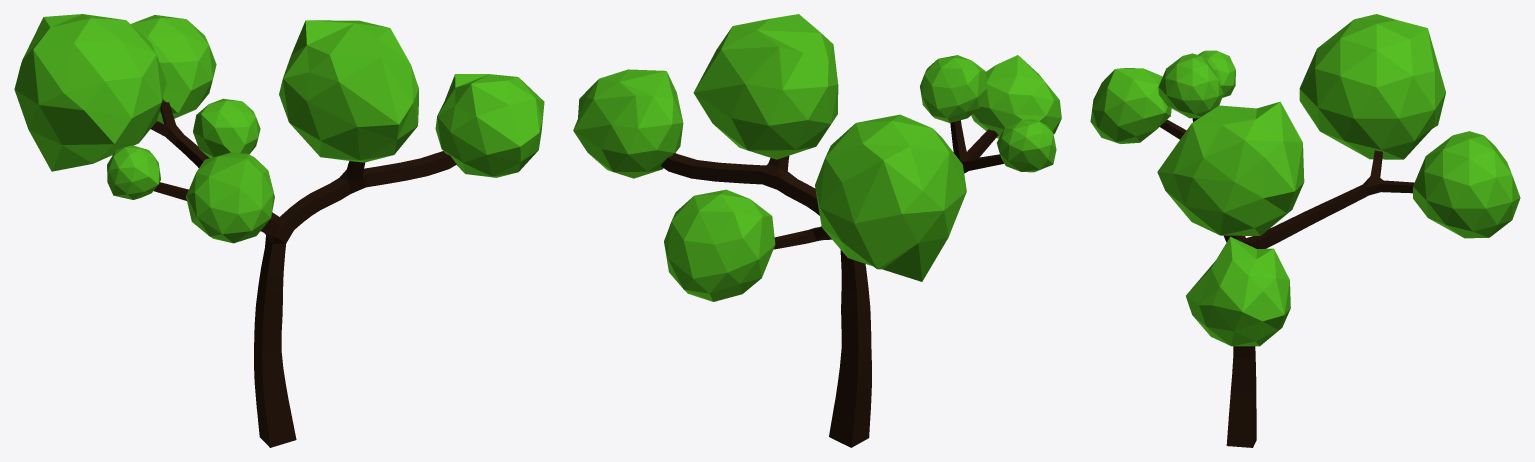
The model's file is sljiva.obj.
3 views of the same model, side by side, from view 1: azimuth 30°, elevation 25°; view 2: azimuth 150°, elevation 25°; view 3: azimuth 270°, elevation 25° (orthographic). The views are drawn at different scales.
Visible parts, largest first — view 1: Icosphere.001_Material.003_0, Icosphere.005_Material.007_0, Plane_Material.002_0, Icosphere.006_Material.008_0, Icosphere.004_Material.006_0, Icosphere_Material.001_0, Icosphere.002_Material.004_0, Icosphere.003_Material.005_0; view 2: Icosphere.001_Material.003_0, Icosphere.005_Material.007_0, Plane_Material.002_0, Icosphere_Material.001_0, Icosphere.006_Material.008_0, Icosphere.004_Material.006_0, Icosphere.002_Material.004_0, Icosphere.003_Material.005_0; view 3: Icosphere.001_Material.003_0, Icosphere.005_Material.007_0, Icosphere_Material.001_0, Icosphere.006_Material.008_0, Plane_Material.002_0, Icosphere.004_Material.006_0, Icosphere.002_Material.004_0, Icosphere.003_Material.005_0.
Part boxes in pixels (x1,y1,x2,y2): Icosphere.001_Material.003_0: (14,14,166,171); Icosphere.005_Material.007_0: (279,20,418,162); Plane_Material.002_0: (151,101,456,447); Icosphere.006_Material.008_0: (435,74,544,177); Icosphere.004_Material.006_0: (186,152,274,243); Icosphere_Material.001_0: (131,15,216,123); Icosphere.002_Material.004_0: (193,98,260,157); Icosphere.003_Material.005_0: (107,145,160,199); Icosphere.001_Material.003_0: (815,114,966,281); Icosphere.005_Material.007_0: (693,14,838,159); Plane_Material.002_0: (660,120,1004,447); Icosphere_Material.001_0: (664,189,775,301); Icosphere.006_Material.008_0: (573,69,683,178); Icosphere.004_Material.006_0: (971,55,1061,138); Icosphere.002_Material.004_0: (920,55,987,122); Icosphere.003_Material.005_0: (997,119,1056,172); Icosphere.001_Material.003_0: (1299,14,1445,159); Icosphere.005_Material.007_0: (1157,101,1304,235); Icosphere_Material.001_0: (1413,131,1520,238); Icosphere.006_Material.008_0: (1186,236,1290,346); Plane_Material.002_0: (1160,118,1414,447); Icosphere.004_Material.006_0: (1090,68,1171,143); Icosphere.002_Material.004_0: (1158,53,1223,118); Icosphere.003_Material.005_0: (1198,50,1235,97).
Size of the model in its own units: 0.2382 by 0.1999 by 0.2112.
